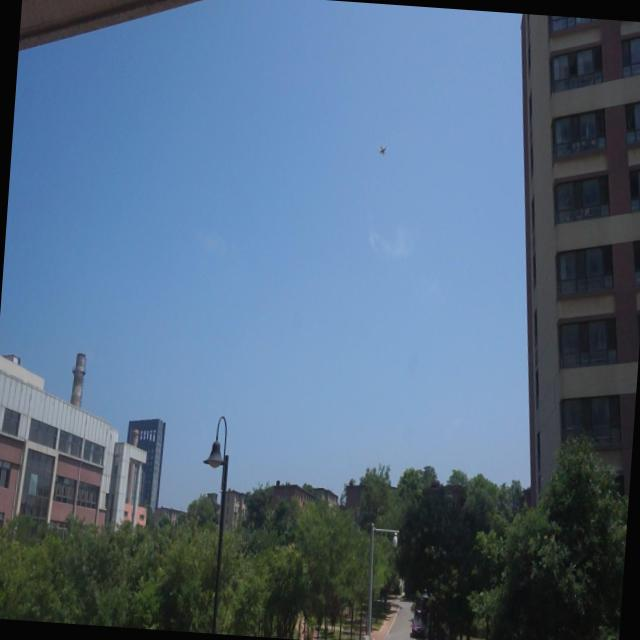drone: (376, 142, 388, 160)
